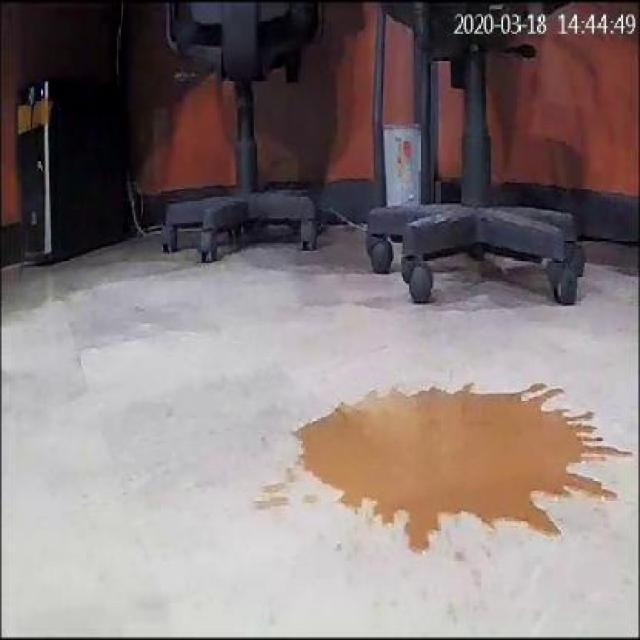spill: (290, 382, 621, 567)
